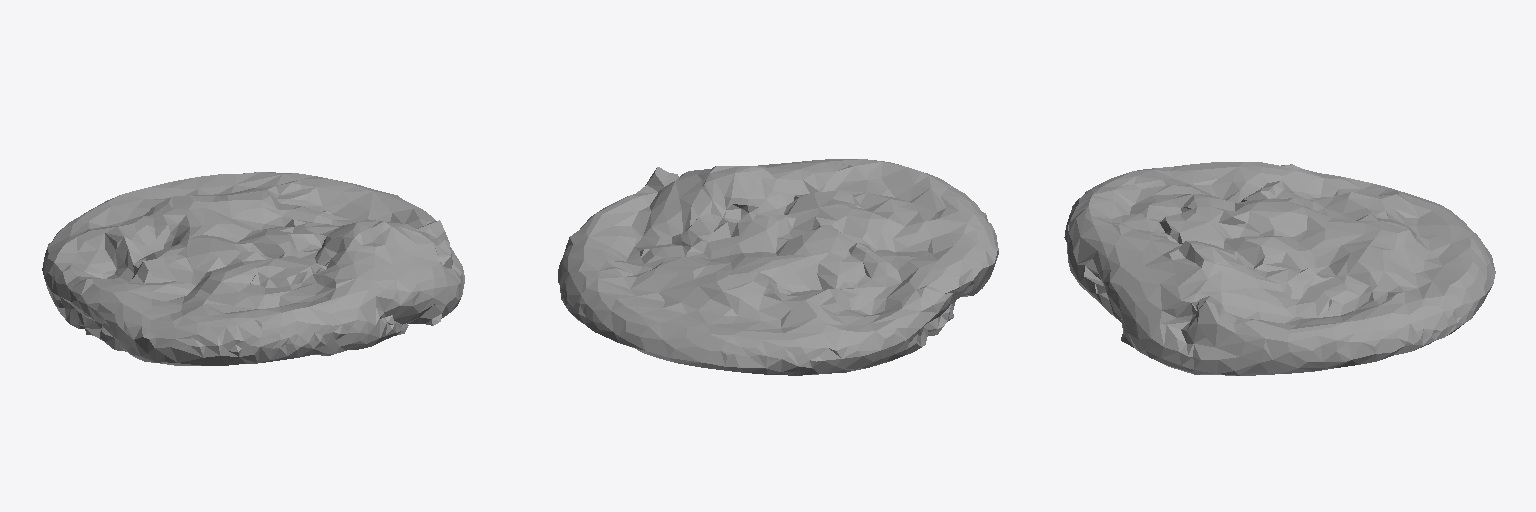
The model's file is cookie_3k.obj.
3 views of the same model, side by side, from view 1: azimuth 30°, elevation 25°; view 2: azimuth 150°, elevation 25°; view 3: azimuth 270°, elevation 25° (orthographic).
Visible parts, largest first — view 1: Cookie; view 2: Cookie; view 3: Cookie.
Part boxes in pixels (bbox=[...]): Cookie: bbox=[42, 172, 464, 365]; Cookie: bbox=[558, 159, 998, 375]; Cookie: bbox=[1064, 162, 1495, 375].
Bounding box in the file's own units: 2.63 × 0.5862 × 2.73.